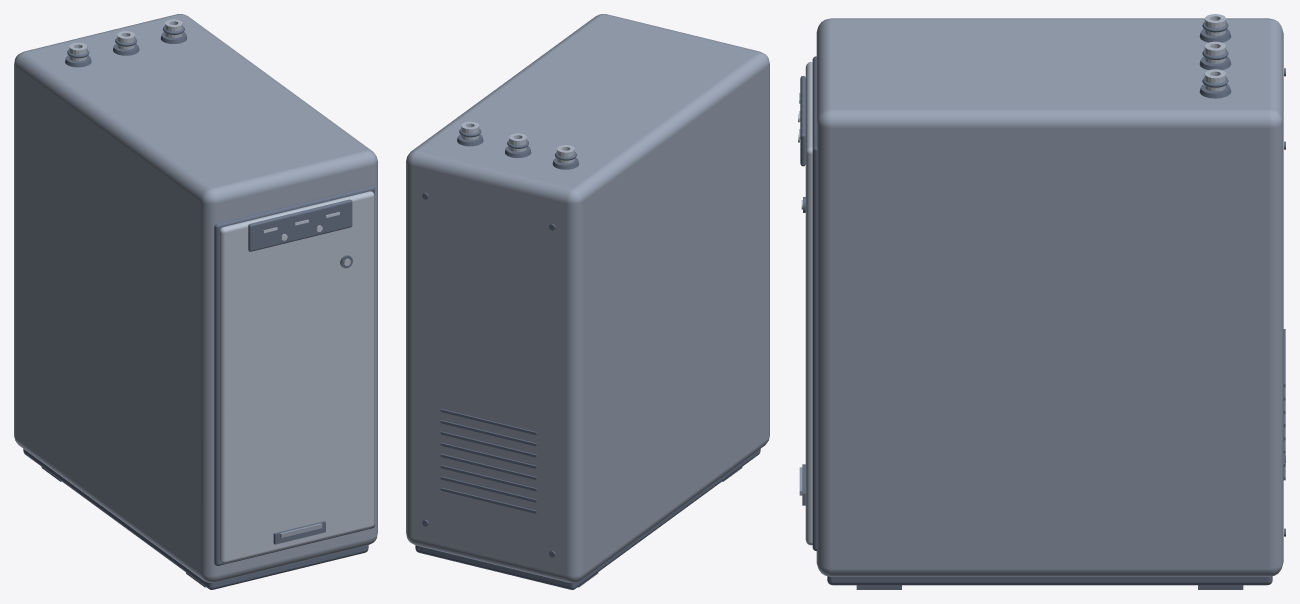
Rendered from water-purifier-lite.glb.
3 renders of one model, left to right at view 1: azimuth 30°, elevation 25°; view 2: azimuth 150°, elevation 25°; view 3: azimuth 270°, elevation 25°, orthographic. The views are drawn at different scales.
Parts seen in each view (by area): view 1: water-purifier-body, water-purifier-panel, water-purifier-dark; view 2: water-purifier-body, water-purifier-dark, water-purifier-panel; view 3: water-purifier-body, water-purifier-dark, water-purifier-panel.
Part boxes in pixels (bbox=[...]): water-purifier-body: bbox=[14, 14, 377, 582]; water-purifier-panel: bbox=[69, 19, 374, 563]; water-purifier-dark: bbox=[23, 26, 374, 589]; water-purifier-body: bbox=[406, 14, 769, 582]; water-purifier-dark: bbox=[415, 128, 760, 589]; water-purifier-panel: bbox=[461, 121, 574, 163]; water-purifier-body: bbox=[799, 18, 1283, 576]; water-purifier-dark: bbox=[800, 22, 1285, 589]; water-purifier-panel: bbox=[801, 14, 1225, 545].
Size of the model in its own units: 0.18 by 0.415 by 0.3655.
